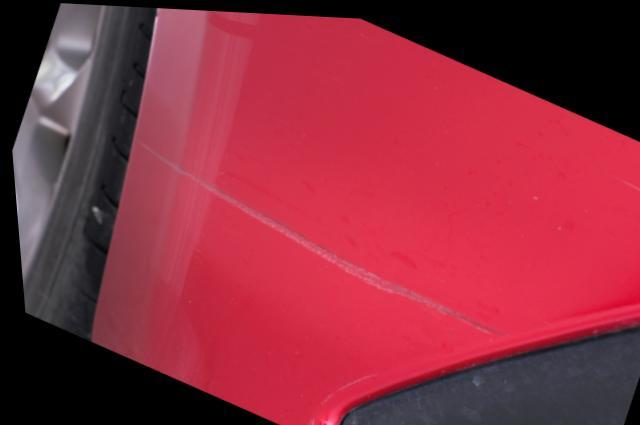scratch: (131, 134, 502, 335)
